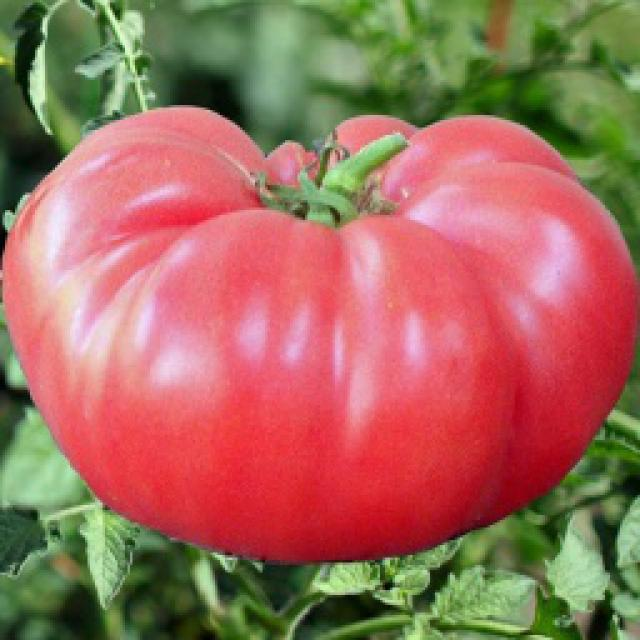tomato: (2, 110, 638, 560)
